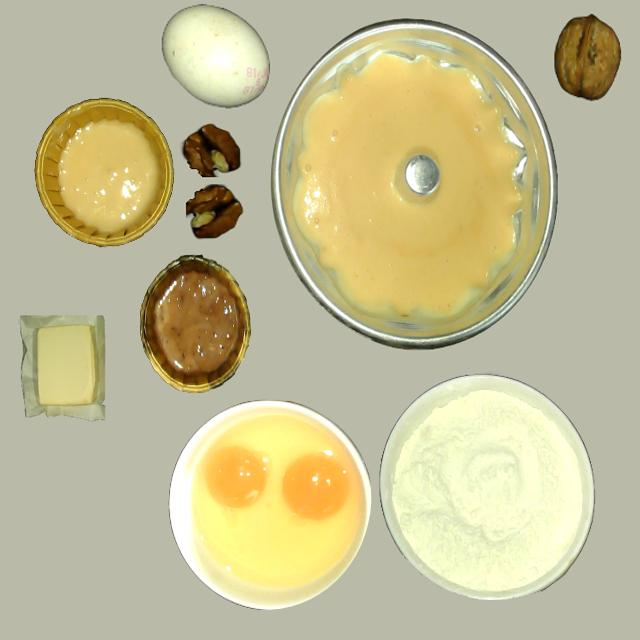Egg: (282, 454, 348, 520), (206, 446, 268, 508)
Flour: (378, 374, 594, 600)
